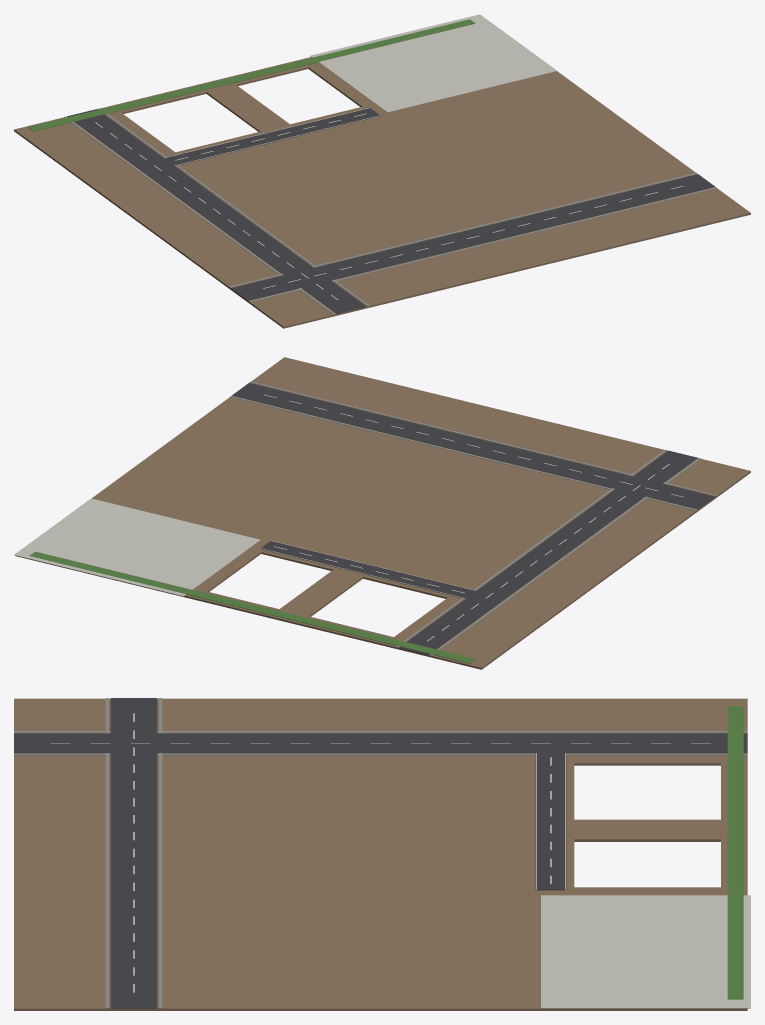
The model's file is site_ground.glb.
The picture shows the model from 3 angles, top to bottom: view 1: azimuth 30°, elevation 25°; view 2: azimuth 150°, elevation 25°; view 3: azimuth 270°, elevation 25°; orthographic projection. The views are drawn at different scales.
Parts seen in each view (by area): view 1: SiteGround; view 2: SiteGround; view 3: SiteGround.
Boxes of the visible parts, bbox=[...] form: SiteGround: bbox=[14, 14, 750, 328]; SiteGround: bbox=[14, 357, 750, 669]; SiteGround: bbox=[14, 698, 750, 1010].
Size of the model in its own units: 110 by 0.5 by 110.
